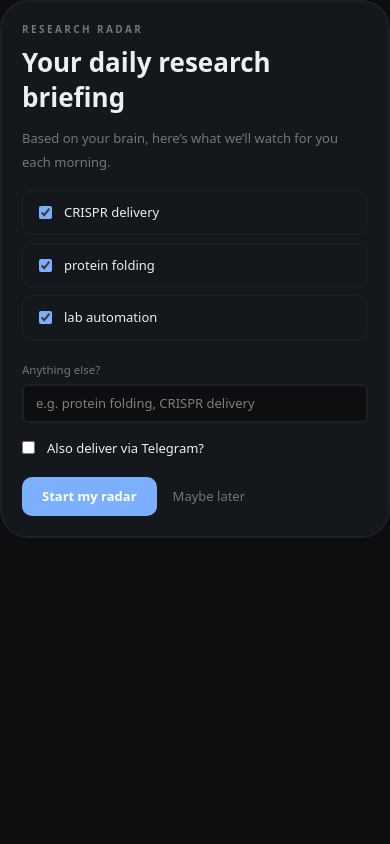
Test: RadarOnboardingCard › shows error message when activation fails
Check: the checkbox labelled "CRISPR delivery" is shown, box [39,206,52,219]
Click the button "Start my radar".
click(89, 496)  # box [22,477,157,516]
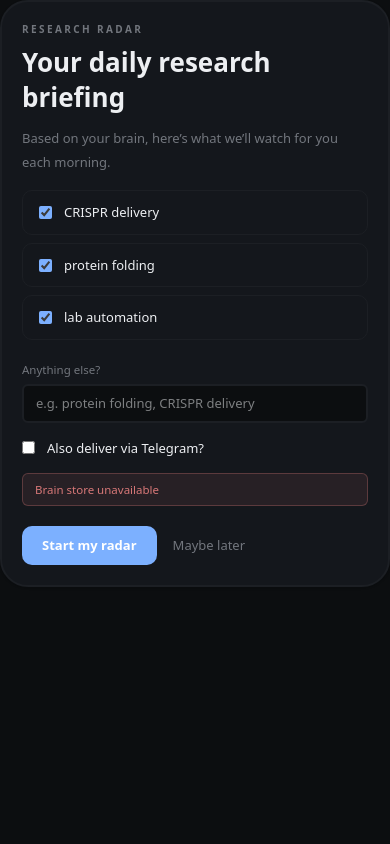
Check: the button "Start my radar" is shown, box [22,526,157,565]
Check: the text "Brain store unavailable" is shown, box [22,473,368,506]
